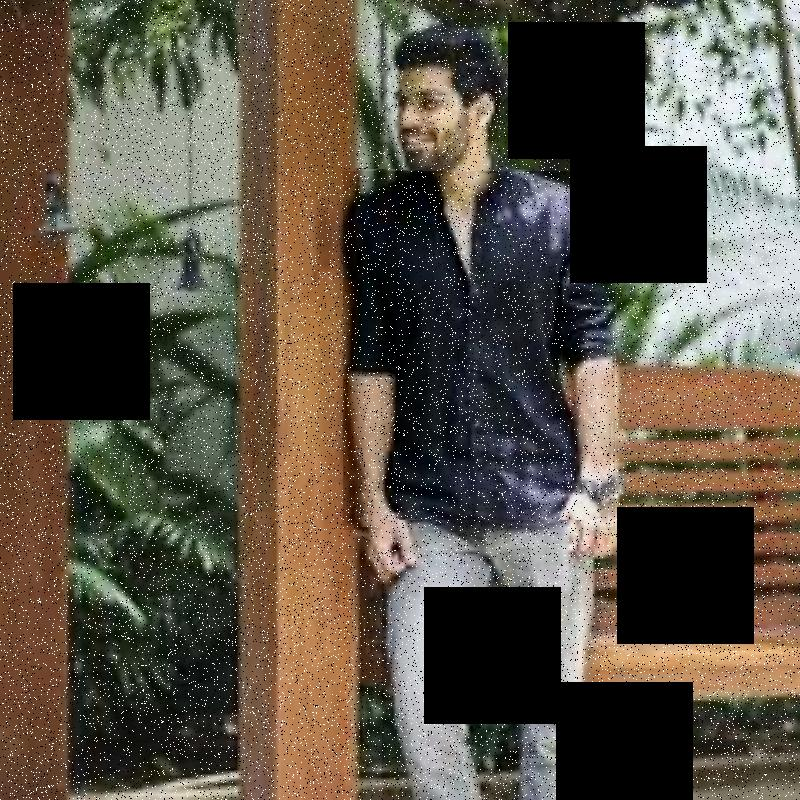Jeans: (382, 520, 600, 800)
Shirt: (343, 171, 615, 530)
